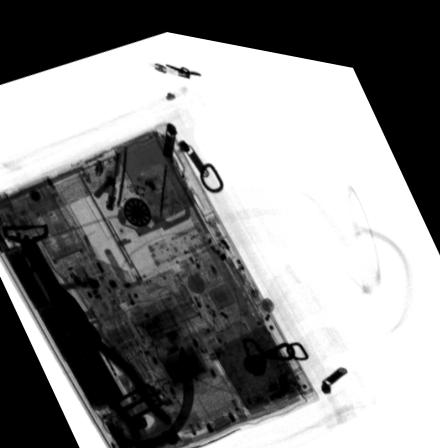Pliers: (46, 275, 175, 441)
